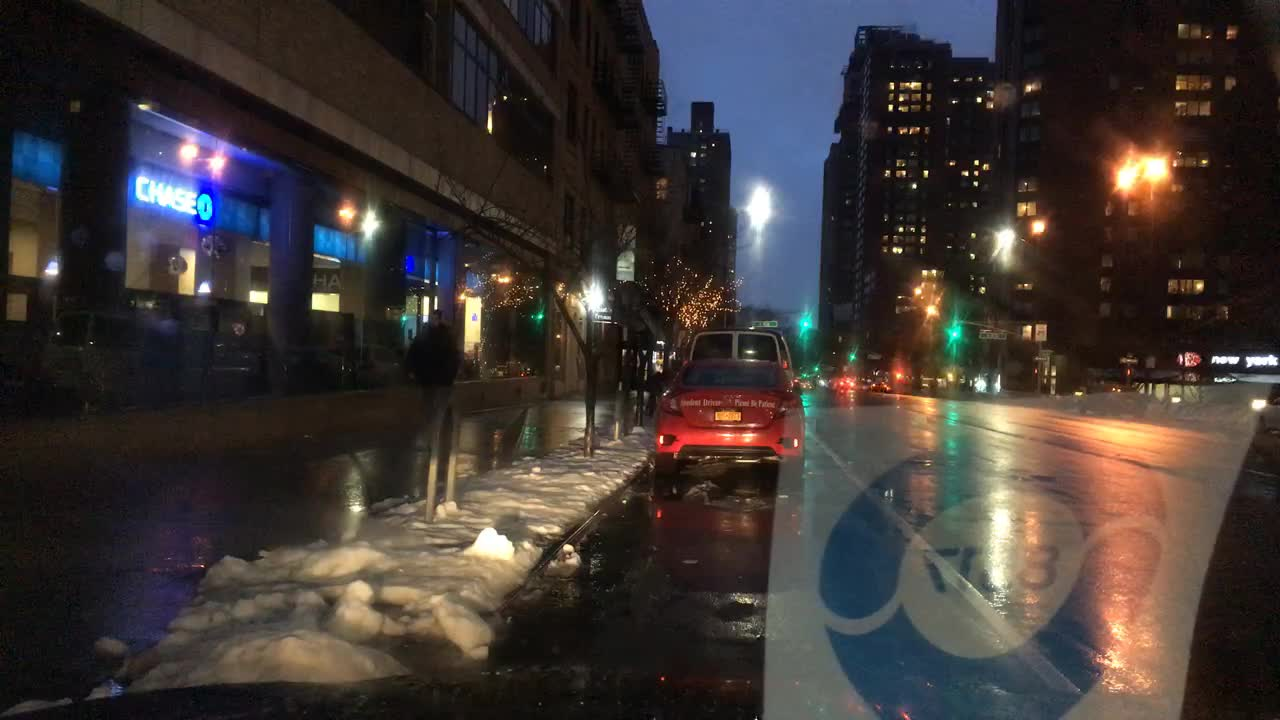car: (652, 355, 804, 486), (40, 306, 169, 409), (167, 318, 266, 398), (684, 329, 794, 392), (311, 338, 404, 390), (812, 362, 837, 389), (829, 375, 855, 392), (792, 375, 812, 393), (858, 373, 875, 391), (870, 375, 887, 392)
person: (402, 308, 462, 427)
traffic sign: (978, 327, 1008, 339), (1034, 323, 1047, 341), (1020, 324, 1032, 341), (747, 320, 777, 325), (1032, 355, 1048, 362)
